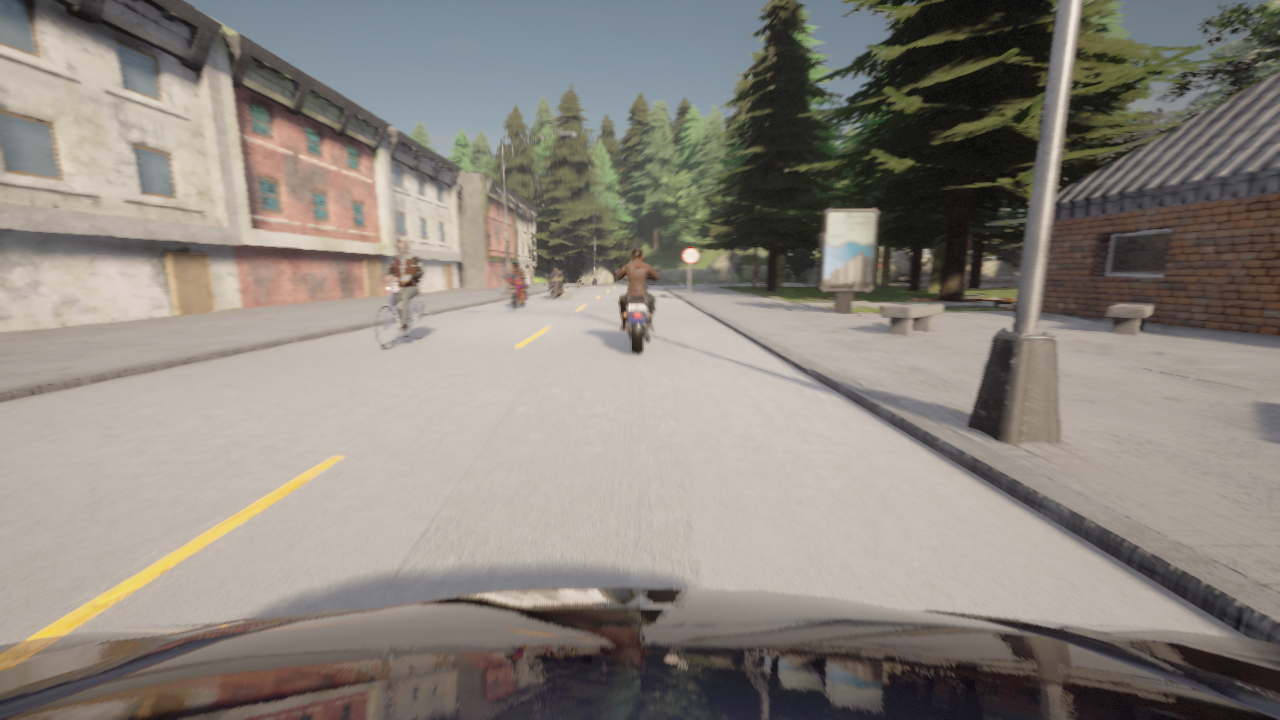cyclist: (0, 588, 1279, 719), (375, 278, 427, 349), (617, 270, 659, 354), (502, 275, 528, 309), (545, 273, 562, 299)
pedestrian: (390, 275, 401, 308)
